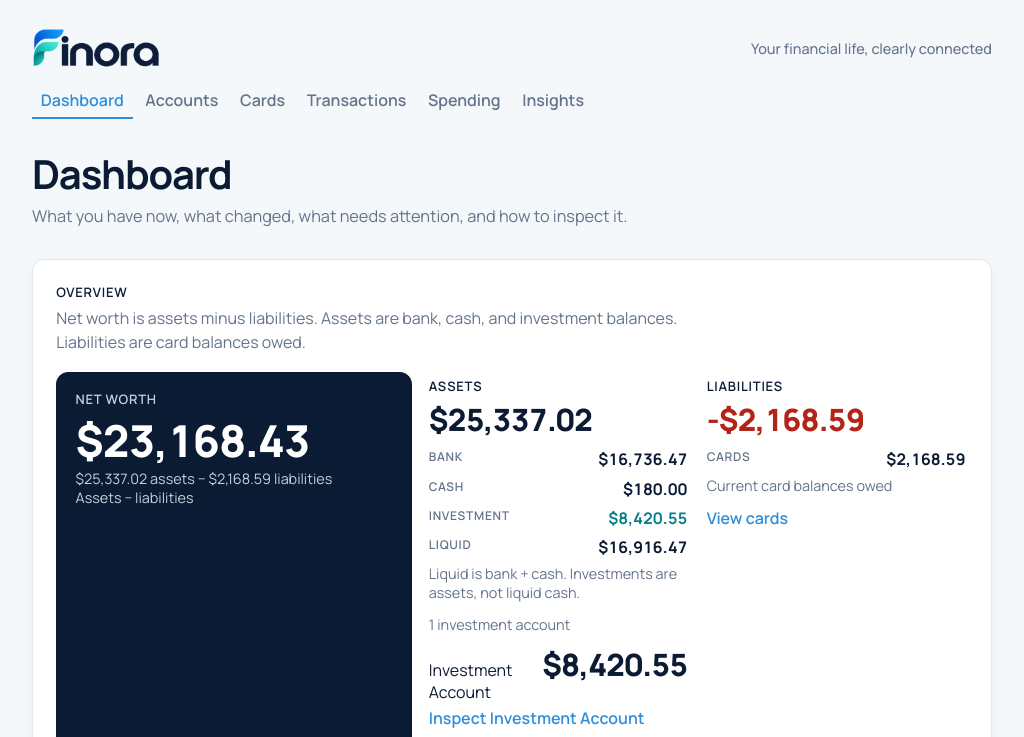
Finora app navigation › returns to the existing dashboard from cards
Click the button "Cards" at (262, 100), box 231,82 -> 294,119
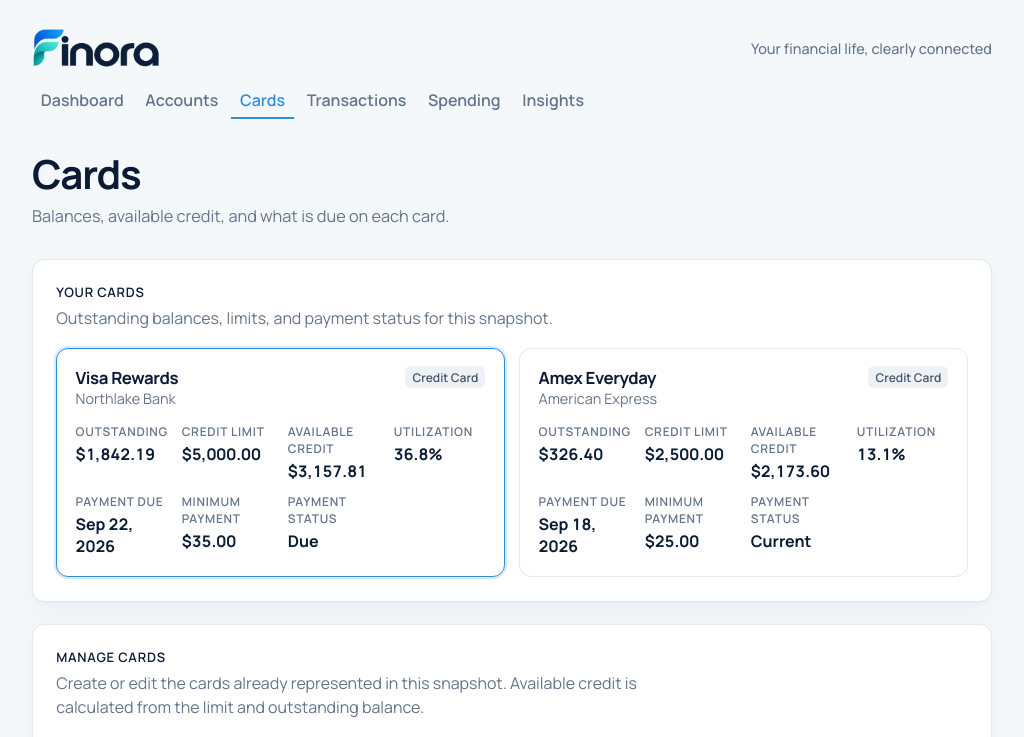
Click the button "Dashboard" at (82, 100), box 32,82 -> 132,119
(page scrolled)
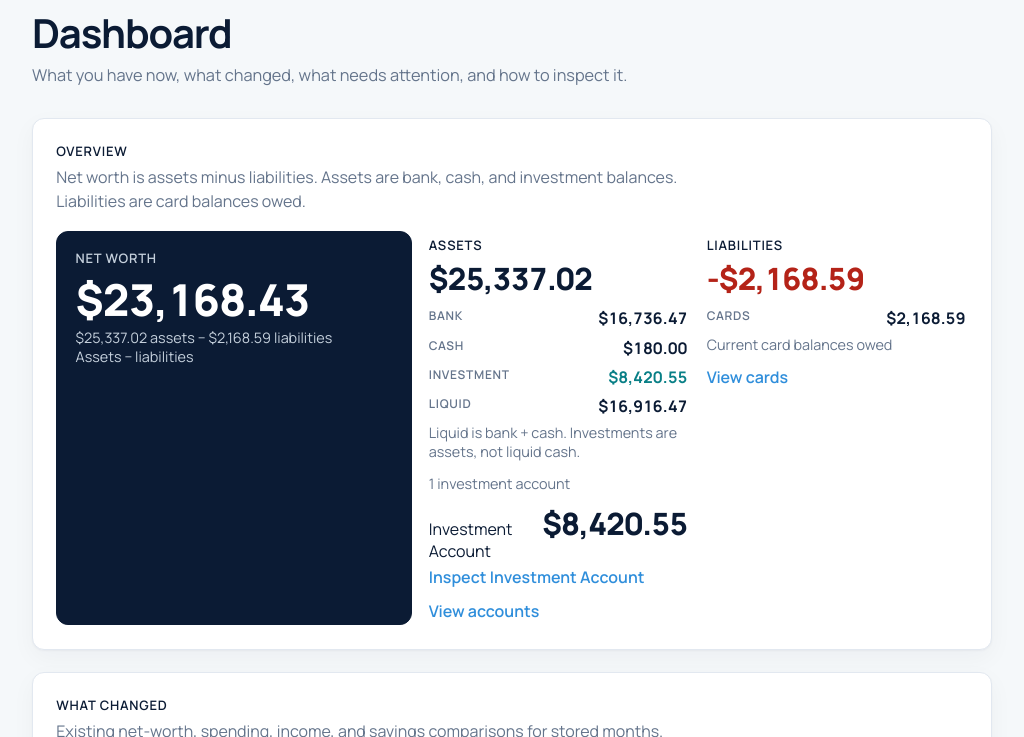
Expected: the heading "Dashboard" is shown, 32,5 -> 232,60
Expected: the element "Overview" is shown
